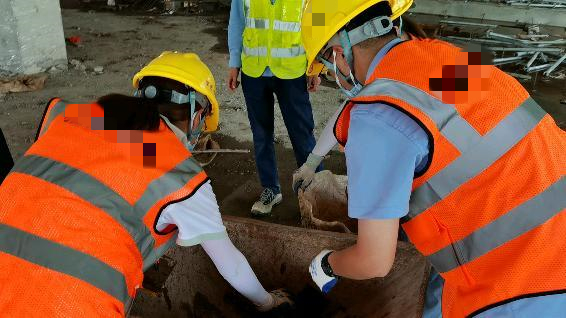helmet: (299, 1, 413, 74), (133, 44, 224, 129)
person: (299, 1, 566, 318), (1, 48, 296, 318), (229, 1, 324, 213)
vest: (335, 44, 559, 318), (3, 97, 198, 318), (242, 1, 314, 76)
